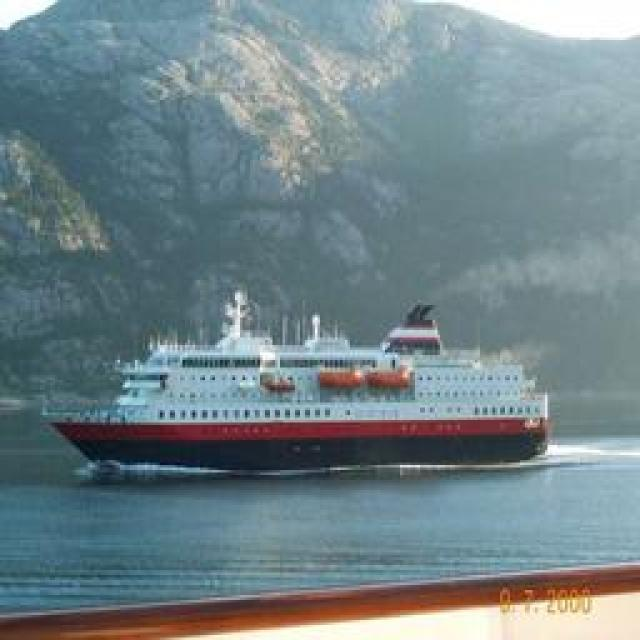ship2: (49, 283, 552, 478)
